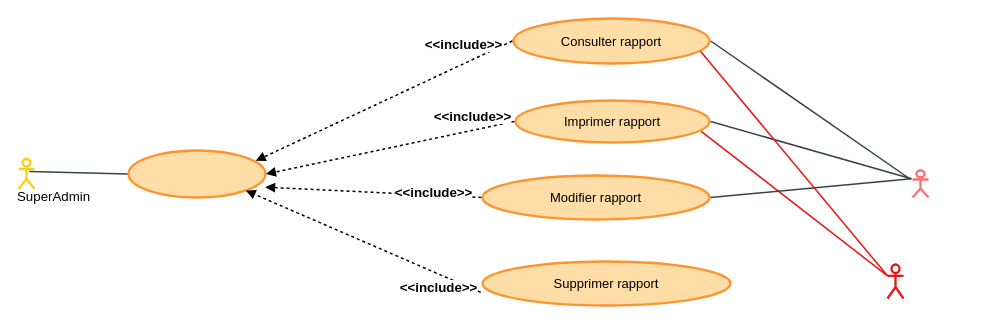
The diagram is 997 pixels wide and 332 high, and some of its shapes have lost their labels. Each missing label, with the box of its shape:
client: (886, 263, 904, 299)
Gérer rapports: (127, 149, 266, 198)
Techniciens: (911, 169, 929, 198)
